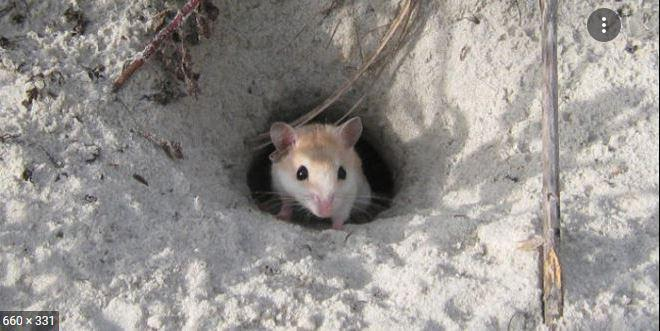rat: (268, 118, 372, 232)
